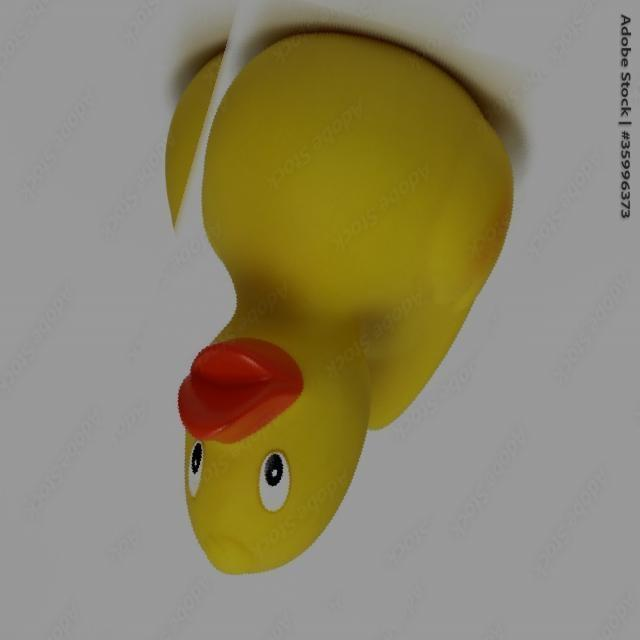rubber-duck: (164, 29, 511, 571)
